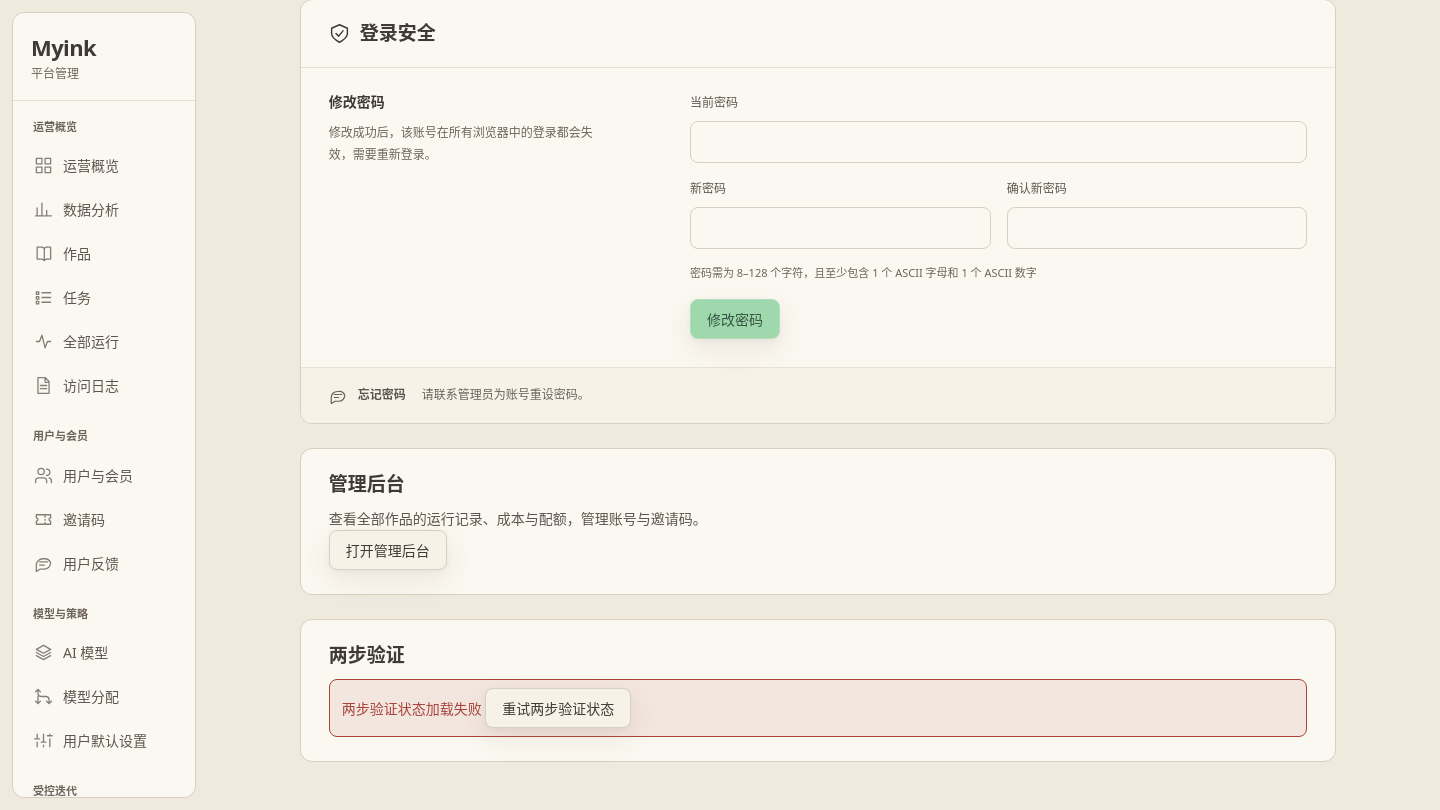
recovers an initially unknown MFA status before exposing enrollment
(page scrolled)
Check: the field labelled "账号密码" is not shown
Click the button "重试两步验证状态": [558, 708] box 485,688 -> 631,728
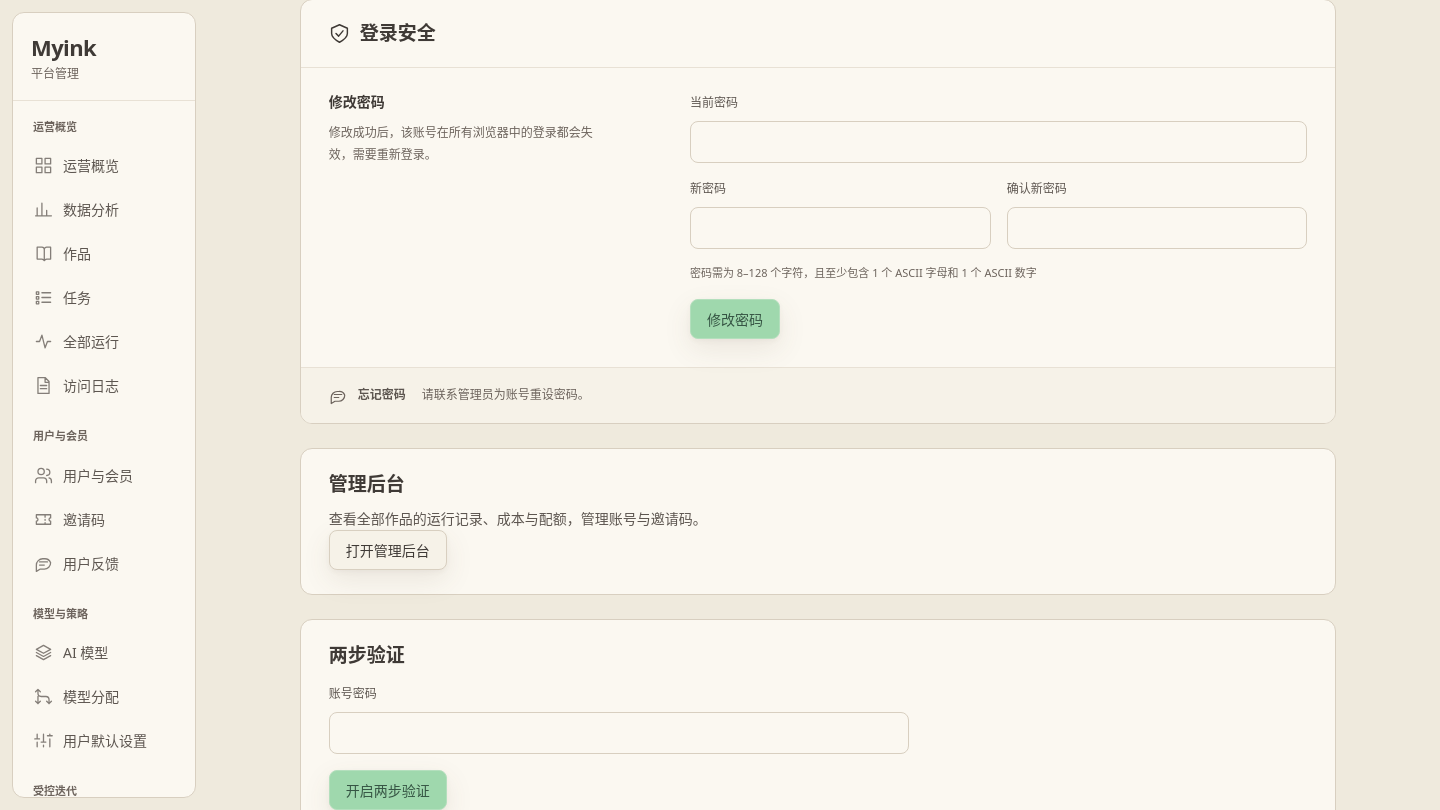
Check: the password field labelled "账号密码" is shown, box 329,712 -> 909,754
